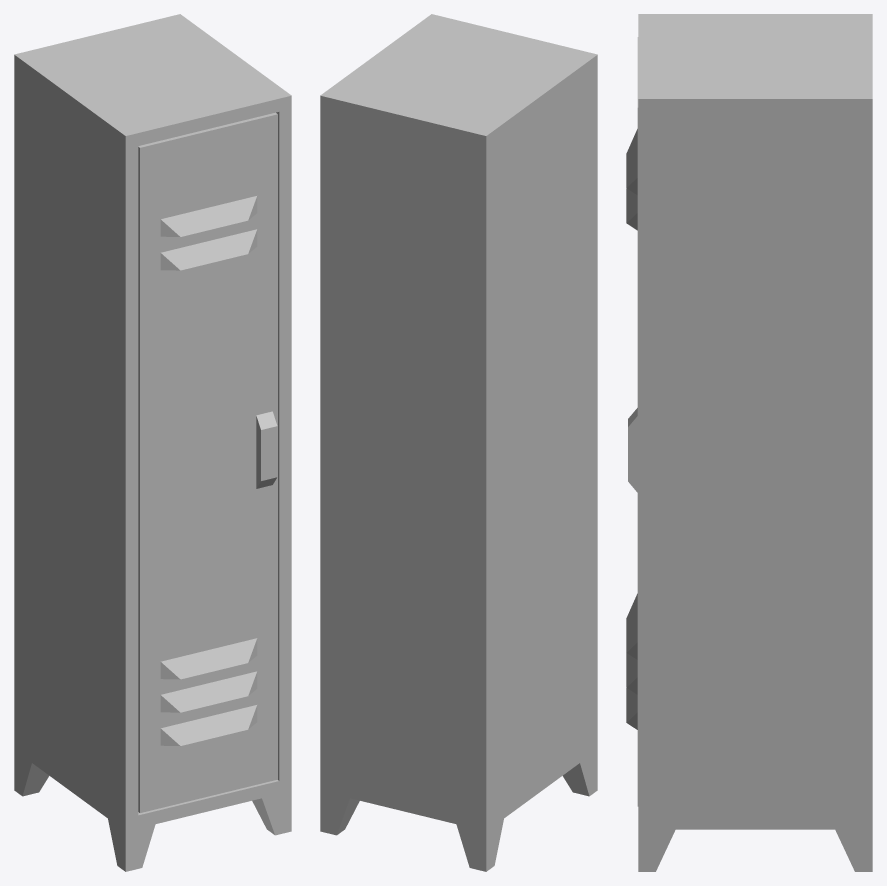
File: Locker.glb
3 views of the same model, side by side, from view 1: azimuth 30°, elevation 25°; view 2: azimuth 150°, elevation 25°; view 3: azimuth 270°, elevation 25° (orthographic). The views are drawn at different scales.
Parts seen in each view (by area): view 1: Locker_mesh; view 2: Locker_mesh; view 3: Locker_mesh.
Part boxes in pixels (x1,y1,x2,y2): Locker_mesh: [14, 14, 291, 871]; Locker_mesh: [320, 14, 597, 871]; Locker_mesh: [626, 14, 872, 871].
Size of the model in its own units: 0.43 by 1.82 by 0.5253.
Materials: 1 (1 with a texture image).
